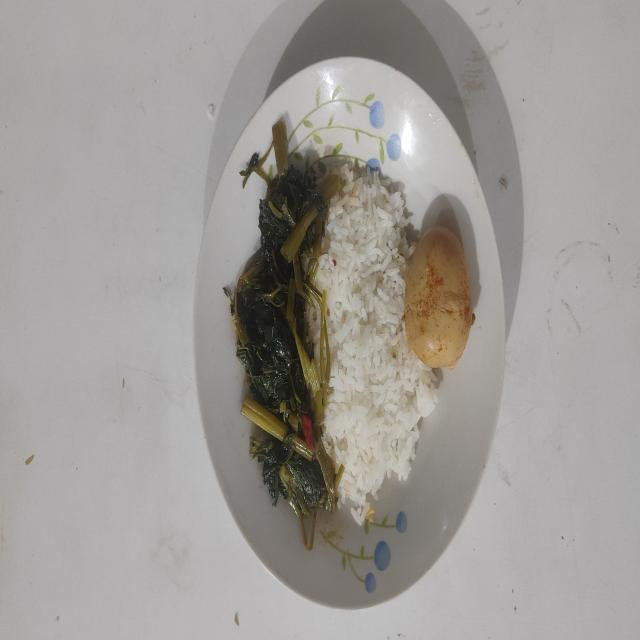nasi_putih: (316, 163, 438, 525)
tumis_kangkung: (233, 120, 344, 550)
